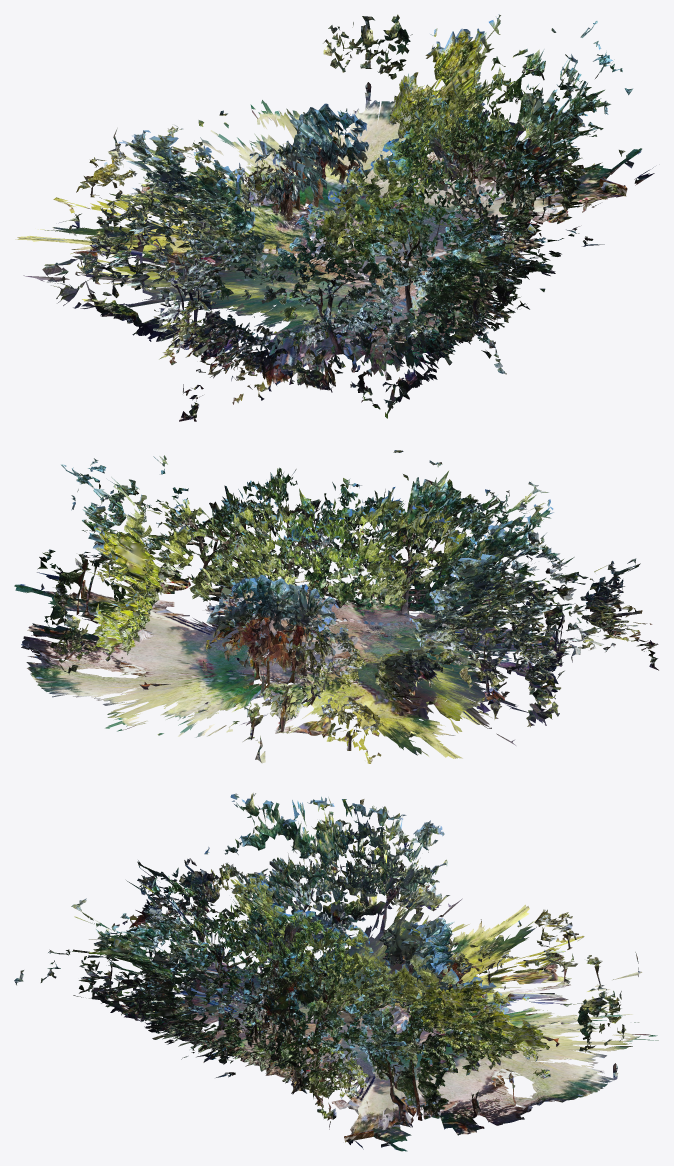
Rendered from small.glb.
The picture shows the model from 3 angles, top to bottom: view 1: azimuth 30°, elevation 25°; view 2: azimuth 150°, elevation 25°; view 3: azimuth 270°, elevation 25°; orthographic projection. The views are drawn at different scales.
Parts seen in each view (by area): view 1: Layer 01; view 2: Layer 01; view 3: Layer 01.
Part boxes in pixels (x1=…): Layer 01: x1=15, y1=14, x2=654, y2=421; Layer 01: x1=14, y1=450, x2=658, y2=763; Layer 01: x1=14, y1=793, x2=658, y2=1151.
Size of the model in its own units: 0.0479 by 0.0151 by 0.0494.
Materials: 13 (13 with a texture image).
